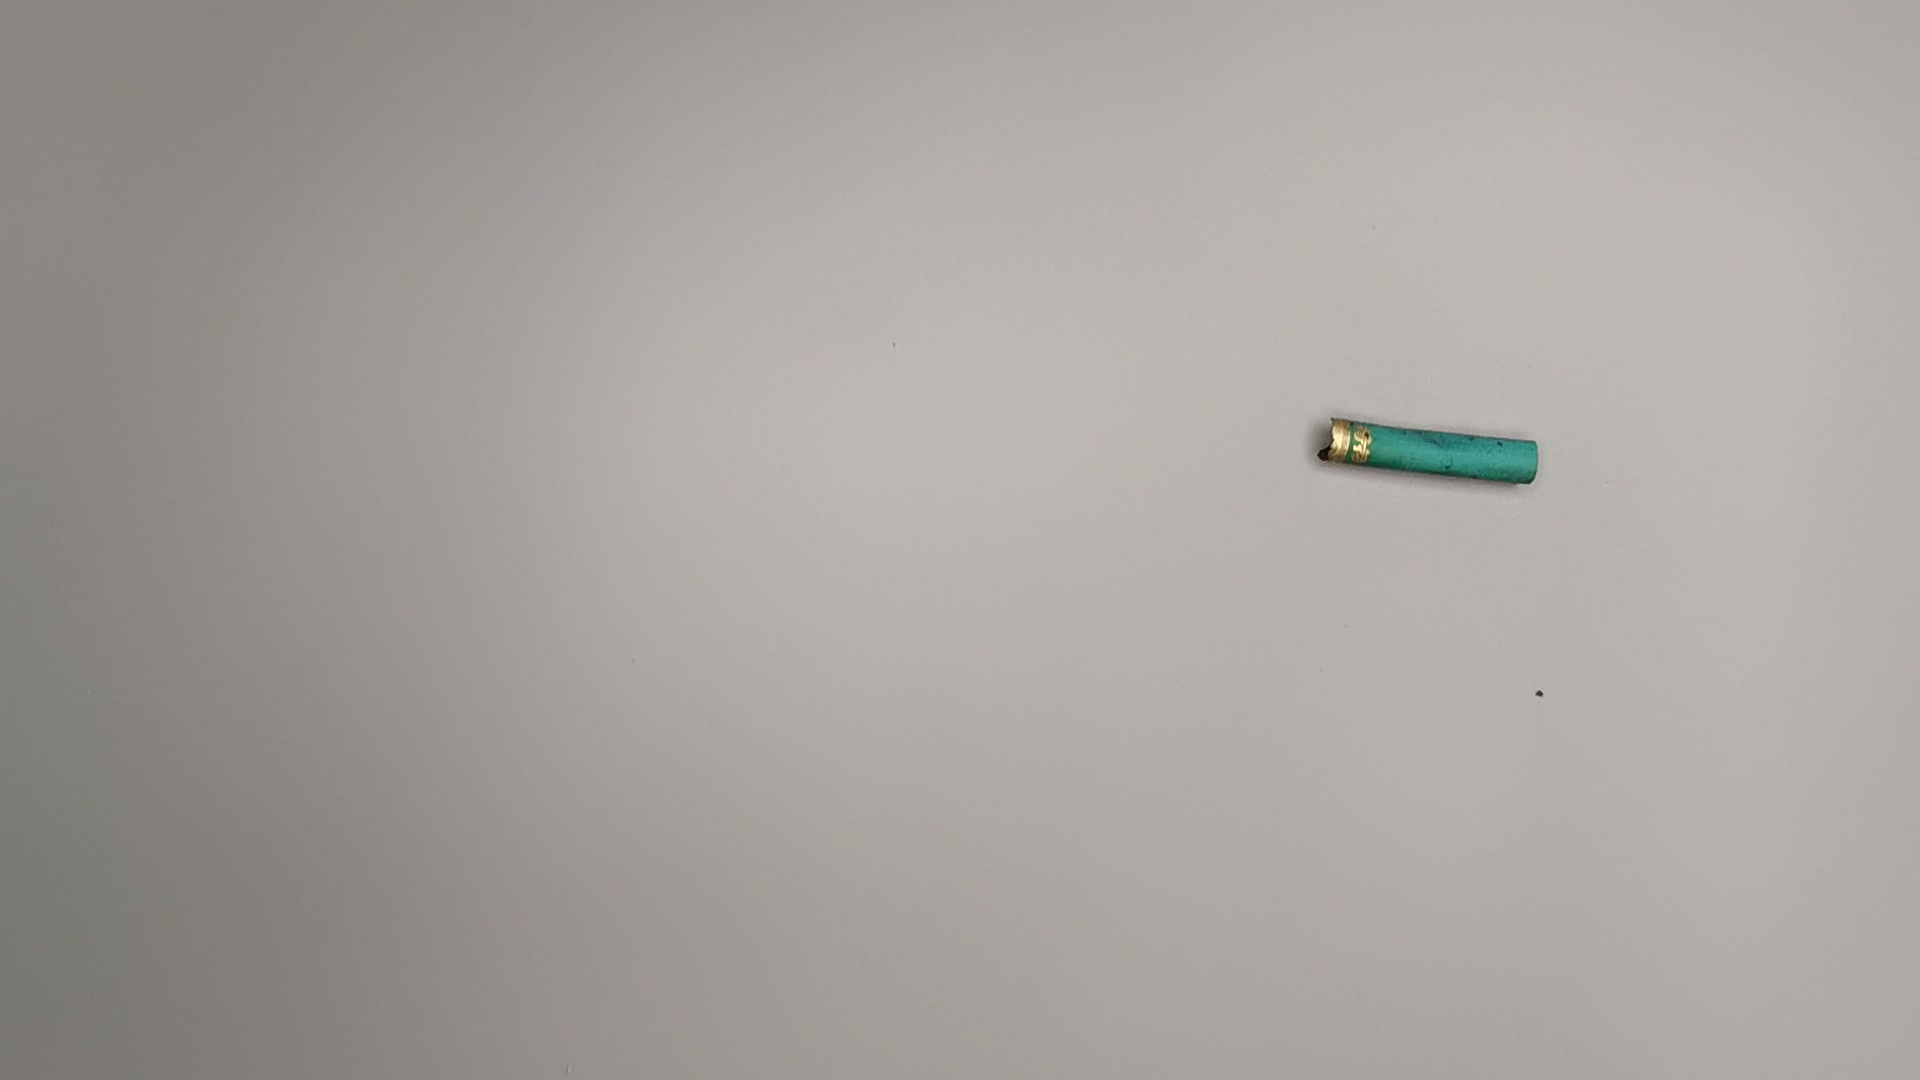cigarette: (1317, 406, 1542, 497)
